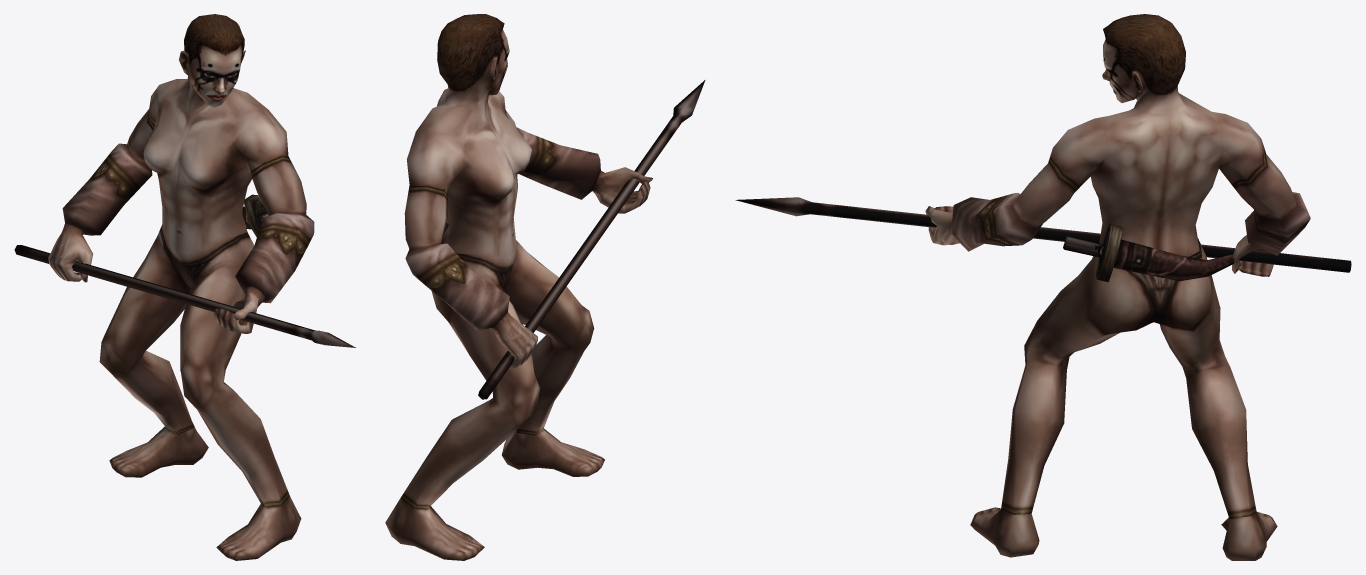
The model's file is Amazon.fbx.
The picture shows the model from 3 angles, left to right: view 1: azimuth 30°, elevation 25°; view 2: azimuth 150°, elevation 25°; view 3: azimuth 270°, elevation 25°; orthographic projection. The views are drawn at different scales.
Visible parts, largest first — view 1: Body, Spear, Knife; view 2: Body, Spear; view 3: Body, Spear, Knife.
Part boxes in pixels (x1,y1,x2,y2): Body: (48,14,314,560); Spear: (14,245,355,347); Knife: (242,194,268,237); Body: (385,14,652,560); Spear: (478,80,705,399); Body: (925,14,1310,560); Spear: (735,197,1351,272); Knife: (1063,224,1234,282).
Size of the model in its own units: 459 by 1382 by 1457.
1 material, 1 textured.
